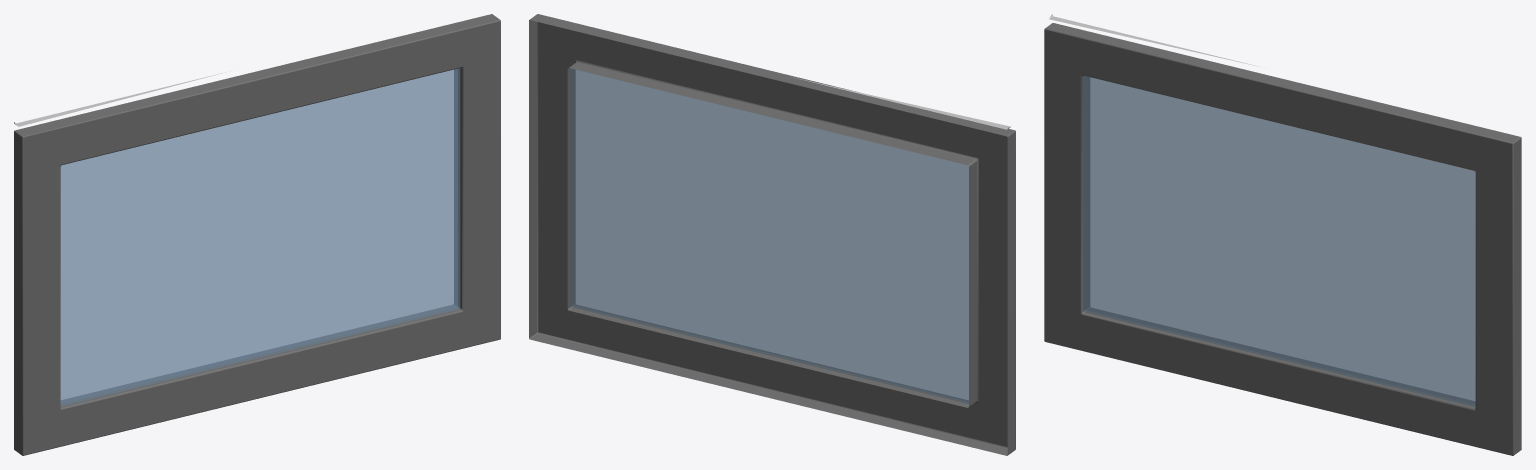
The model's file is 287DoorDown.obj.
3 views of the same model, side by side, from view 1: azimuth 30°, elevation 25°; view 2: azimuth 150°, elevation 25°; view 3: azimuth 330°, elevation 25° (orthographic). The views are drawn at different scales.
Parts seen in each view (by area): view 1: 287.002; view 2: 287.002; view 3: 287.002.
Part boxes in pixels (x1=…): 287.002: x1=14, y1=14, x2=500, y2=455; 287.002: x1=529, y1=14, x2=1015, y2=455; 287.002: x1=1044, y1=14, x2=1521, y2=455.
Size of the model in its own units: 0.58 by 0.3802 by 0.0182.
